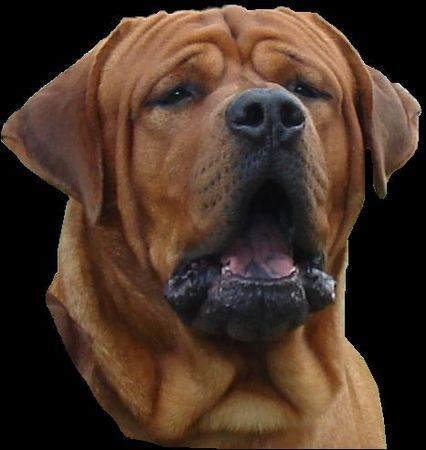tosa_inu: (0, 4, 422, 450)
